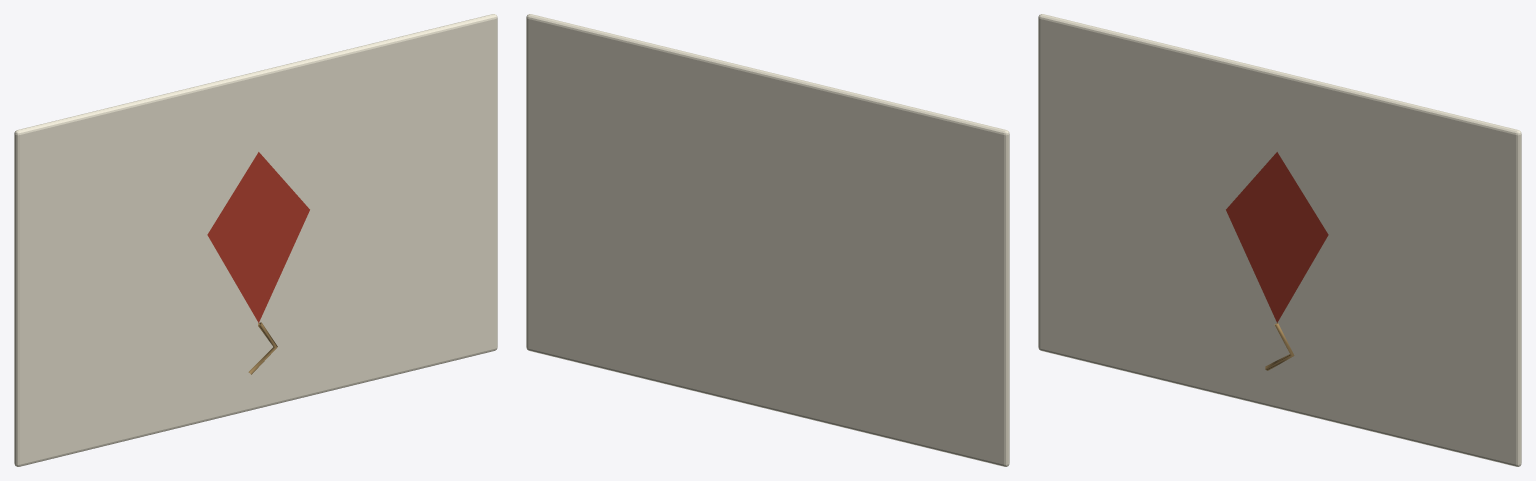
The model's file is story-card.glb.
3 renders of one model, left to right at view 1: azimuth 30°, elevation 25°; view 2: azimuth 150°, elevation 25°; view 3: azimuth 330°, elevation 25°, orthographic.
Visible parts, largest first — view 1: StoryCard, KiteEmblem; view 2: StoryCard; view 3: StoryCard, KiteEmblem.
Part boxes in pixels (x1,y1,x2,y2): StoryCard: (14, 14, 497, 466); KiteEmblem: (207, 152, 309, 322); StoryCard: (526, 14, 1009, 466); StoryCard: (1038, 14, 1521, 466); KiteEmblem: (1226, 152, 1328, 322).
Bounding box in the file's own units: 0.15 × 0.1 × 0.0037.
